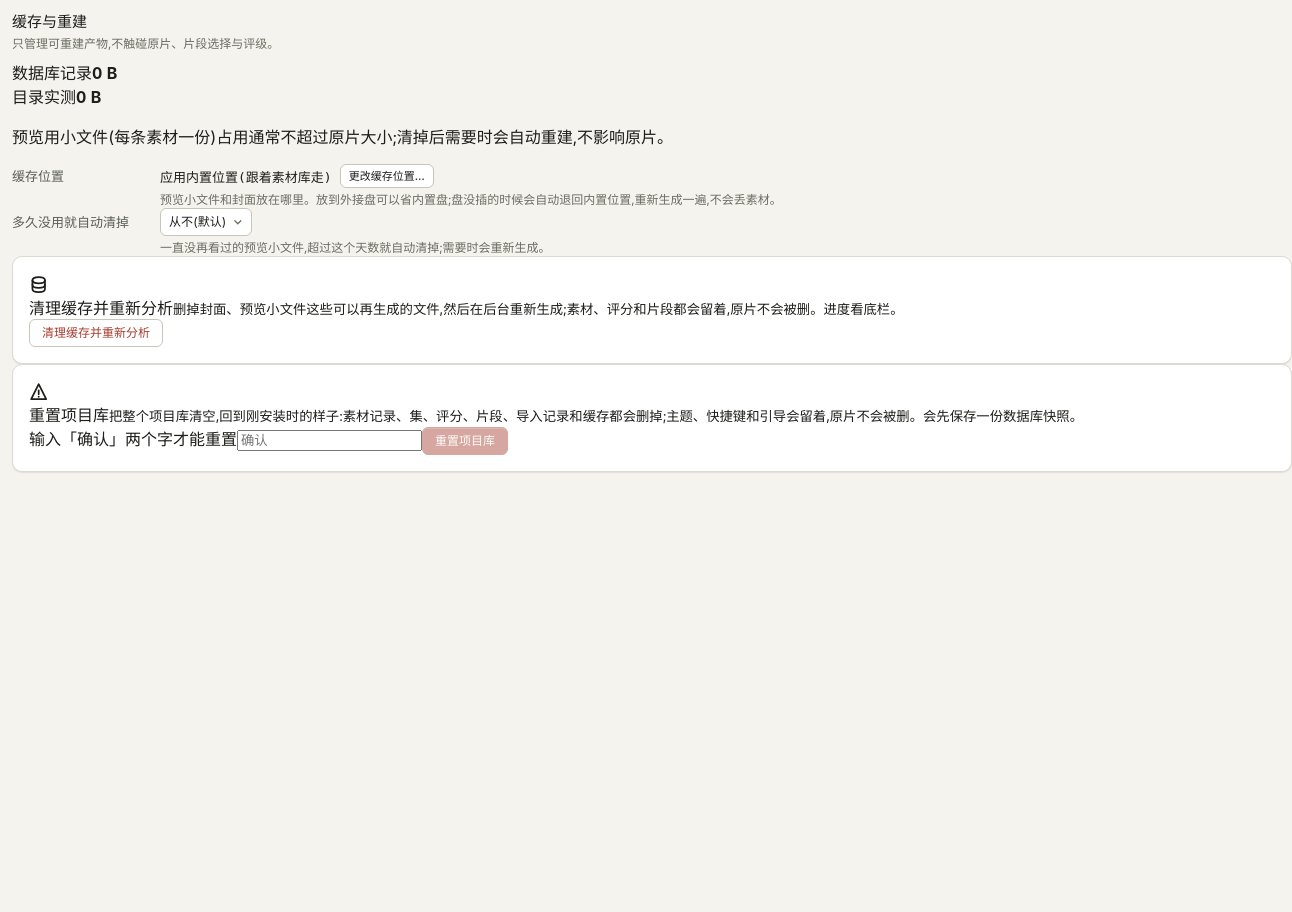
Test: F5 更改缓存位置 › 选了文件夹就调搬迁;失败时把「现在怎么办」原样摆出来
Click the button "更改缓存位置…" at (387, 176), box [340, 164, 434, 188]
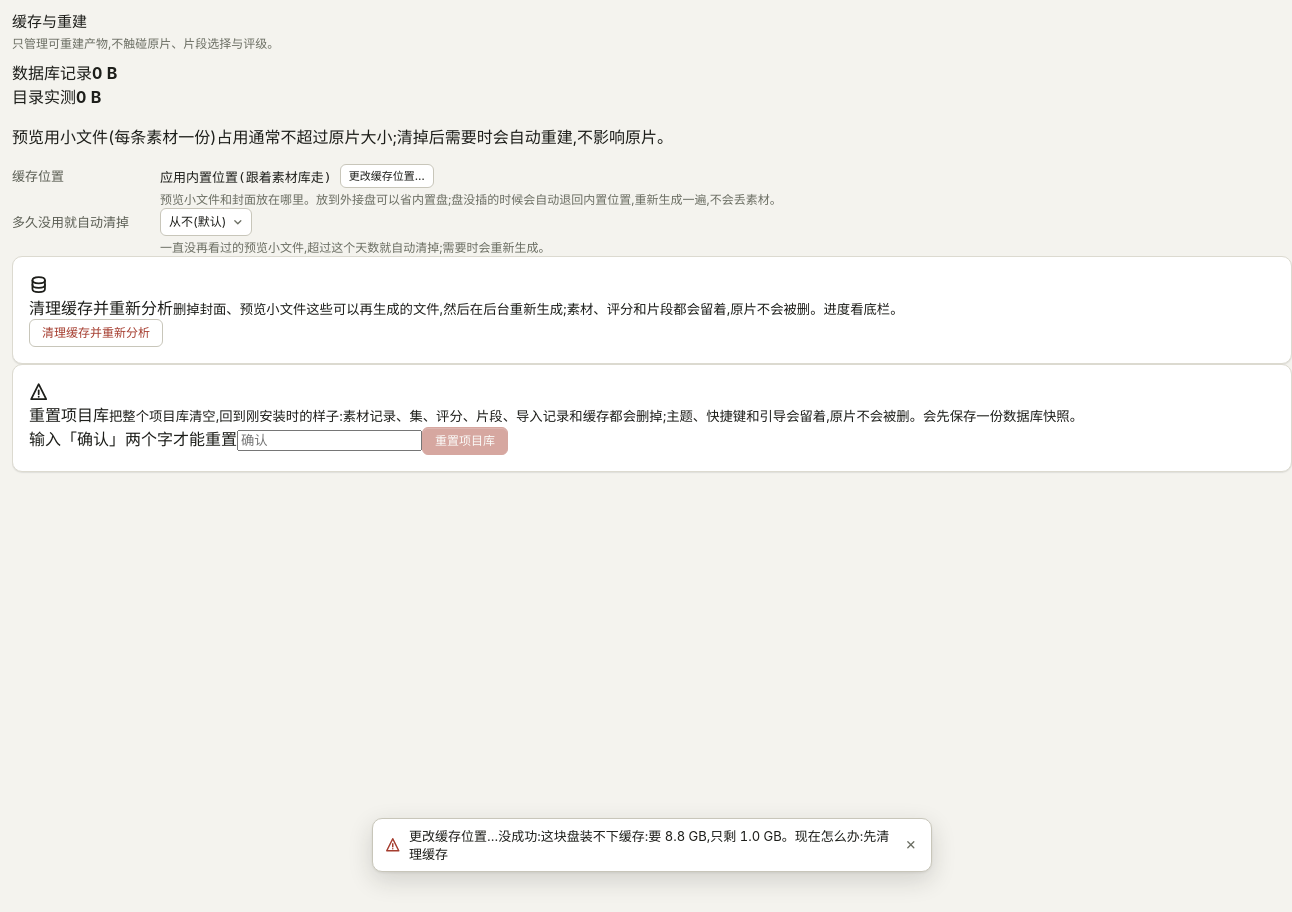
Now the message shows "现在怎么办", box [409, 828, 889, 862]
